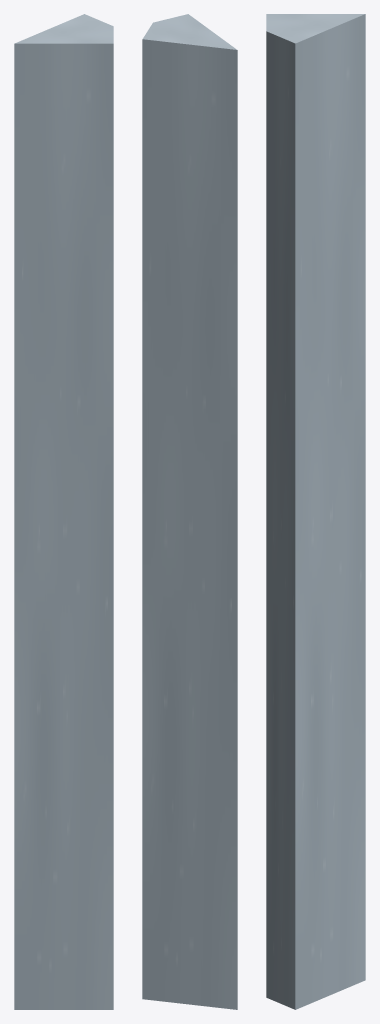
The model's file is SM_WallCorner_45.glb.
3 renders of one model, left to right at view 1: azimuth 90°, elevation 25°; view 2: azimuth 210°, elevation 25°; view 3: azimuth 270°, elevation 25°, orthographic.
Parts seen in each view (by area): view 1: SM_WallCorner_45; view 2: SM_WallCorner_45; view 3: SM_WallCorner_45.
Boxes of the visible parts, box(x1,y1,x2,y2) form: SM_WallCorner_45: box(14, 14, 113, 1009); SM_WallCorner_45: box(142, 14, 237, 1009); SM_WallCorner_45: box(266, 14, 365, 1009).
Size of the model in its own units: 0.1838 by 2.8 by 0.26.
1 material, 1 textured.
